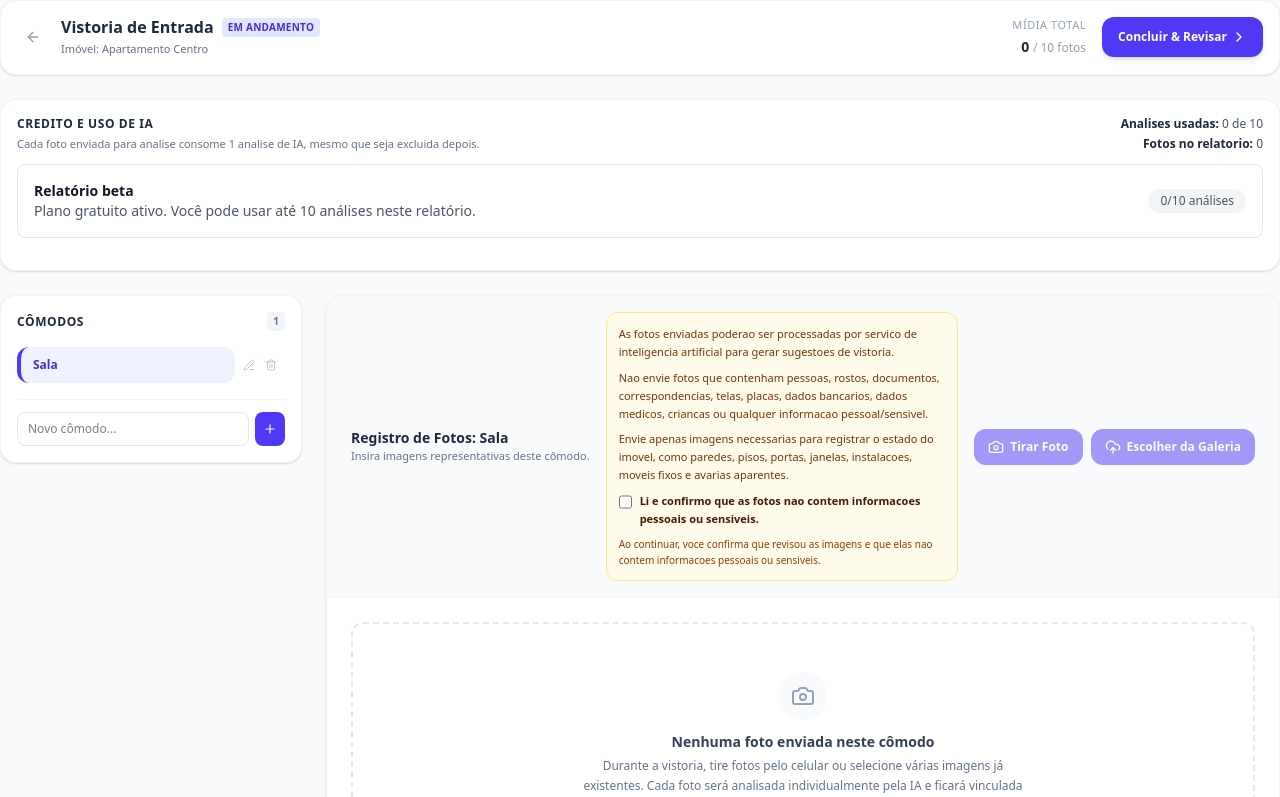
Test: InspectionWizard Component Basic Tests › allows adding a custom room via form submission
Check: the text "Sala" is shown, box [33, 357, 58, 373]
Type "Suíte Master" into the field with placeholder "Novo cômodo...".
click(133, 429); type("Suíte Master")  # box [17, 412, 249, 446]
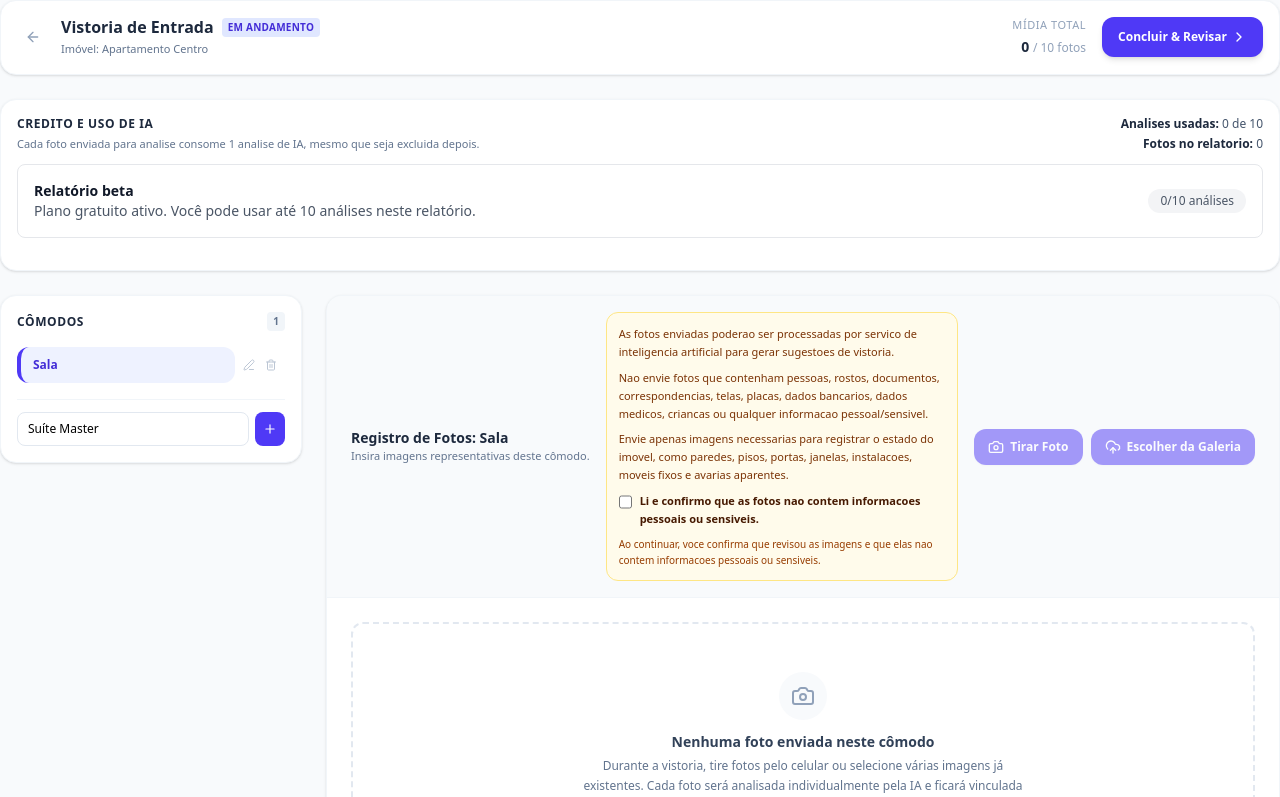
Submit the form, box [17, 412, 285, 446]
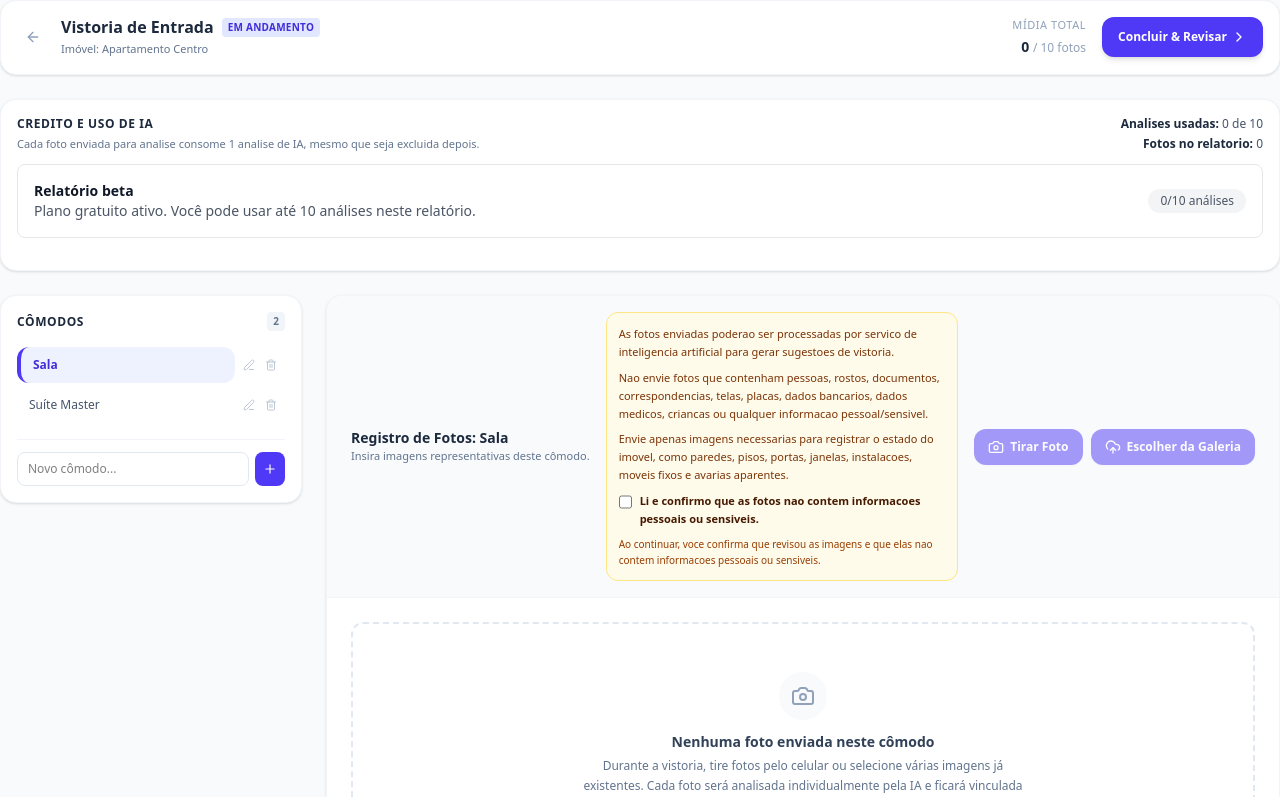
Check: the text "Suíte Master" is shown, box [29, 397, 100, 413]
